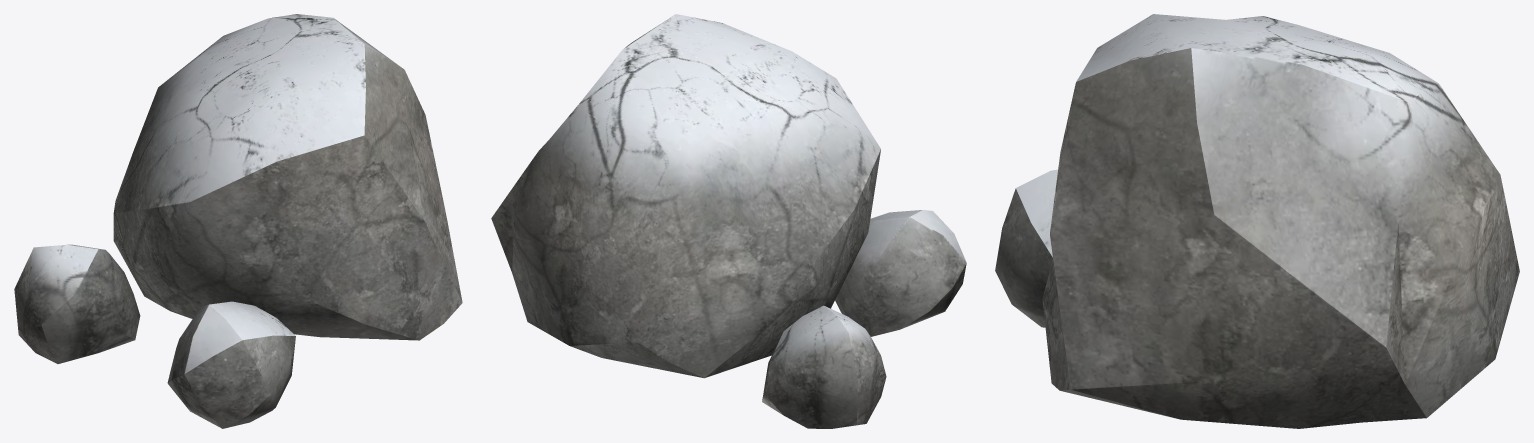
The model's file is boulder_snow.glb.
The picture shows the model from 3 angles, left to right: view 1: azimuth 30°, elevation 25°; view 2: azimuth 150°, elevation 25°; view 3: azimuth 270°, elevation 25°; orthographic projection. The views are drawn at different scales.
Parts seen in each view (by area): view 1: root_mesh; view 2: root_mesh; view 3: root_mesh.
Part boxes in pixels (box(x1,y1,x2,y2)): root_mesh: box(14, 14, 462, 428); root_mesh: box(491, 14, 966, 428); root_mesh: box(995, 14, 1519, 428).
Size of the model in its own units: 0.9197 by 0.6963 by 0.8466.
Materials: 1 (1 with a texture image).
